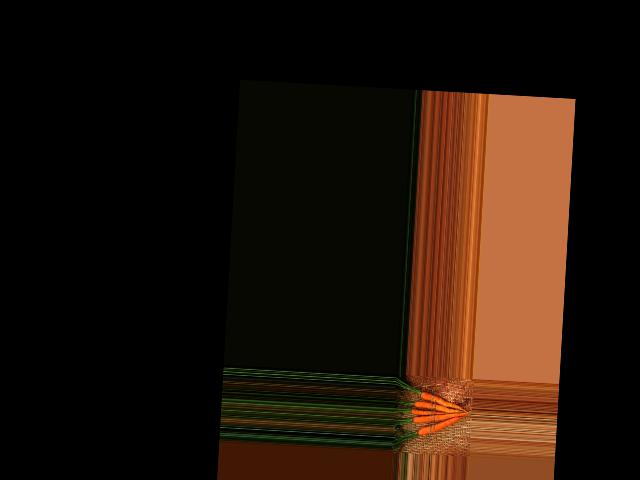carrot: (419, 390, 462, 409)
